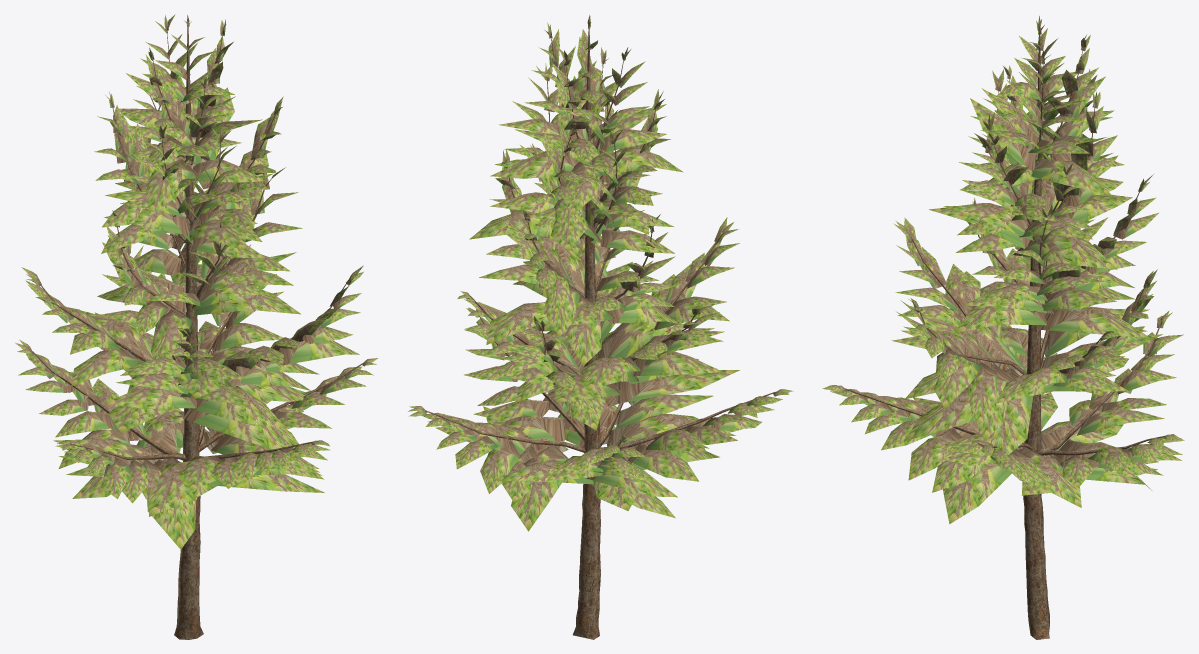
File: Pine03.fbx
The picture shows the model from 3 angles, left to right: view 1: azimuth 30°, elevation 25°; view 2: azimuth 150°, elevation 25°; view 3: azimuth 270°, elevation 25°; orthographic projection.
Parts seen in each view (by area): view 1: Pine03_LOD0; view 2: Pine03_LOD0; view 3: Pine03_LOD0.
Part boxes in pixels (box(x1,y1,x2,y2)): Pine03_LOD0: box(15, 14, 377, 639); Pine03_LOD0: box(408, 15, 793, 639); Pine03_LOD0: box(822, 16, 1184, 639).
Size of what is drawn, in the model's own units: 408 by 749 by 398.
2 materials, 2 textured.
